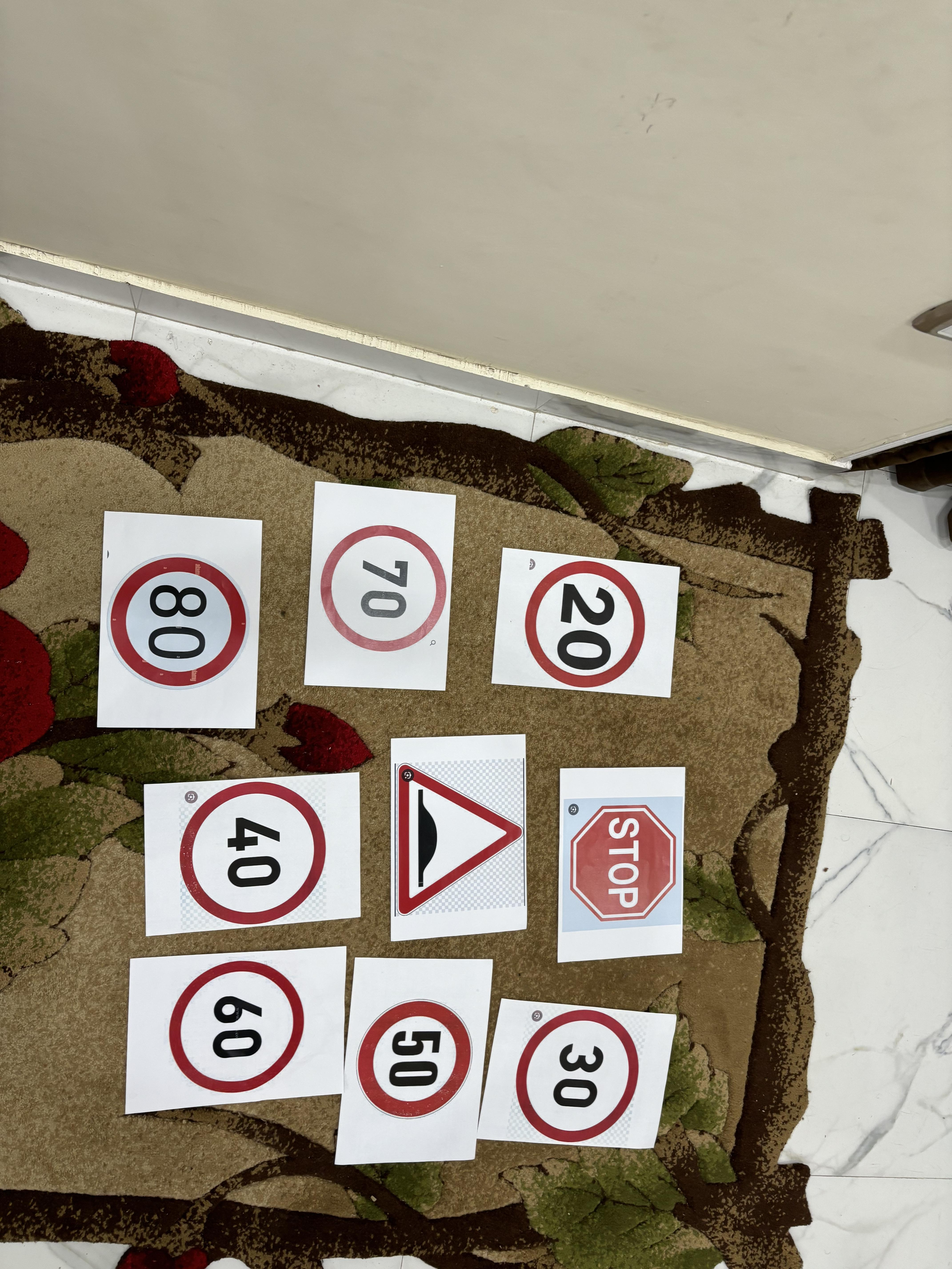20-Speed: (523, 563, 645, 685)
30-speed: (511, 1011, 643, 1141)
40-Speed: (175, 782, 332, 924)
50-Speed: (349, 994, 476, 1119)
60-Speed: (166, 960, 312, 1094)
70-Speed: (317, 523, 449, 655)
80-Speed: (107, 551, 252, 693)
Hump: (394, 760, 520, 915)
Stop: (564, 798, 685, 929)
